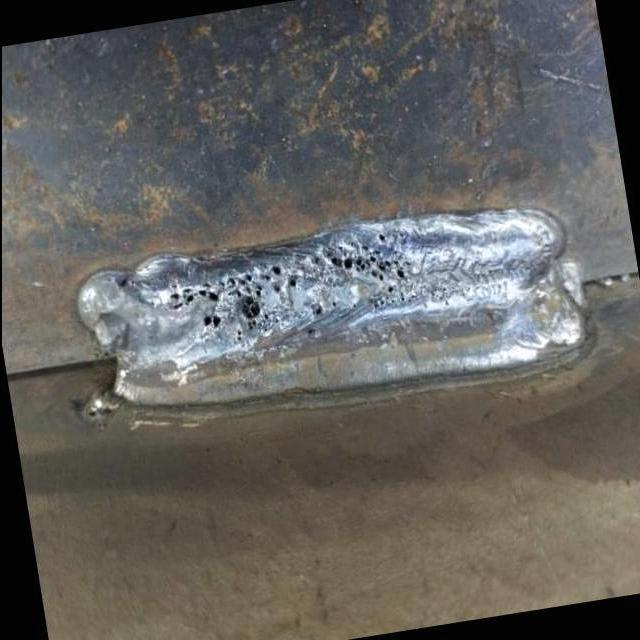defect: (159, 261, 300, 341), (317, 230, 410, 300), (307, 298, 329, 320)
